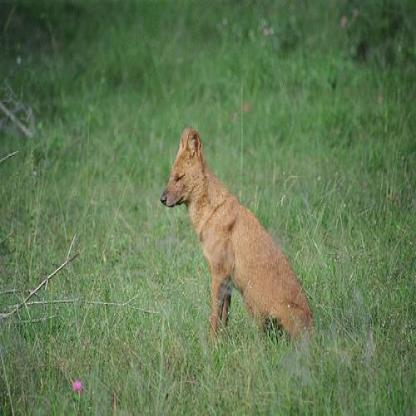dhole: (160, 123, 311, 351)
